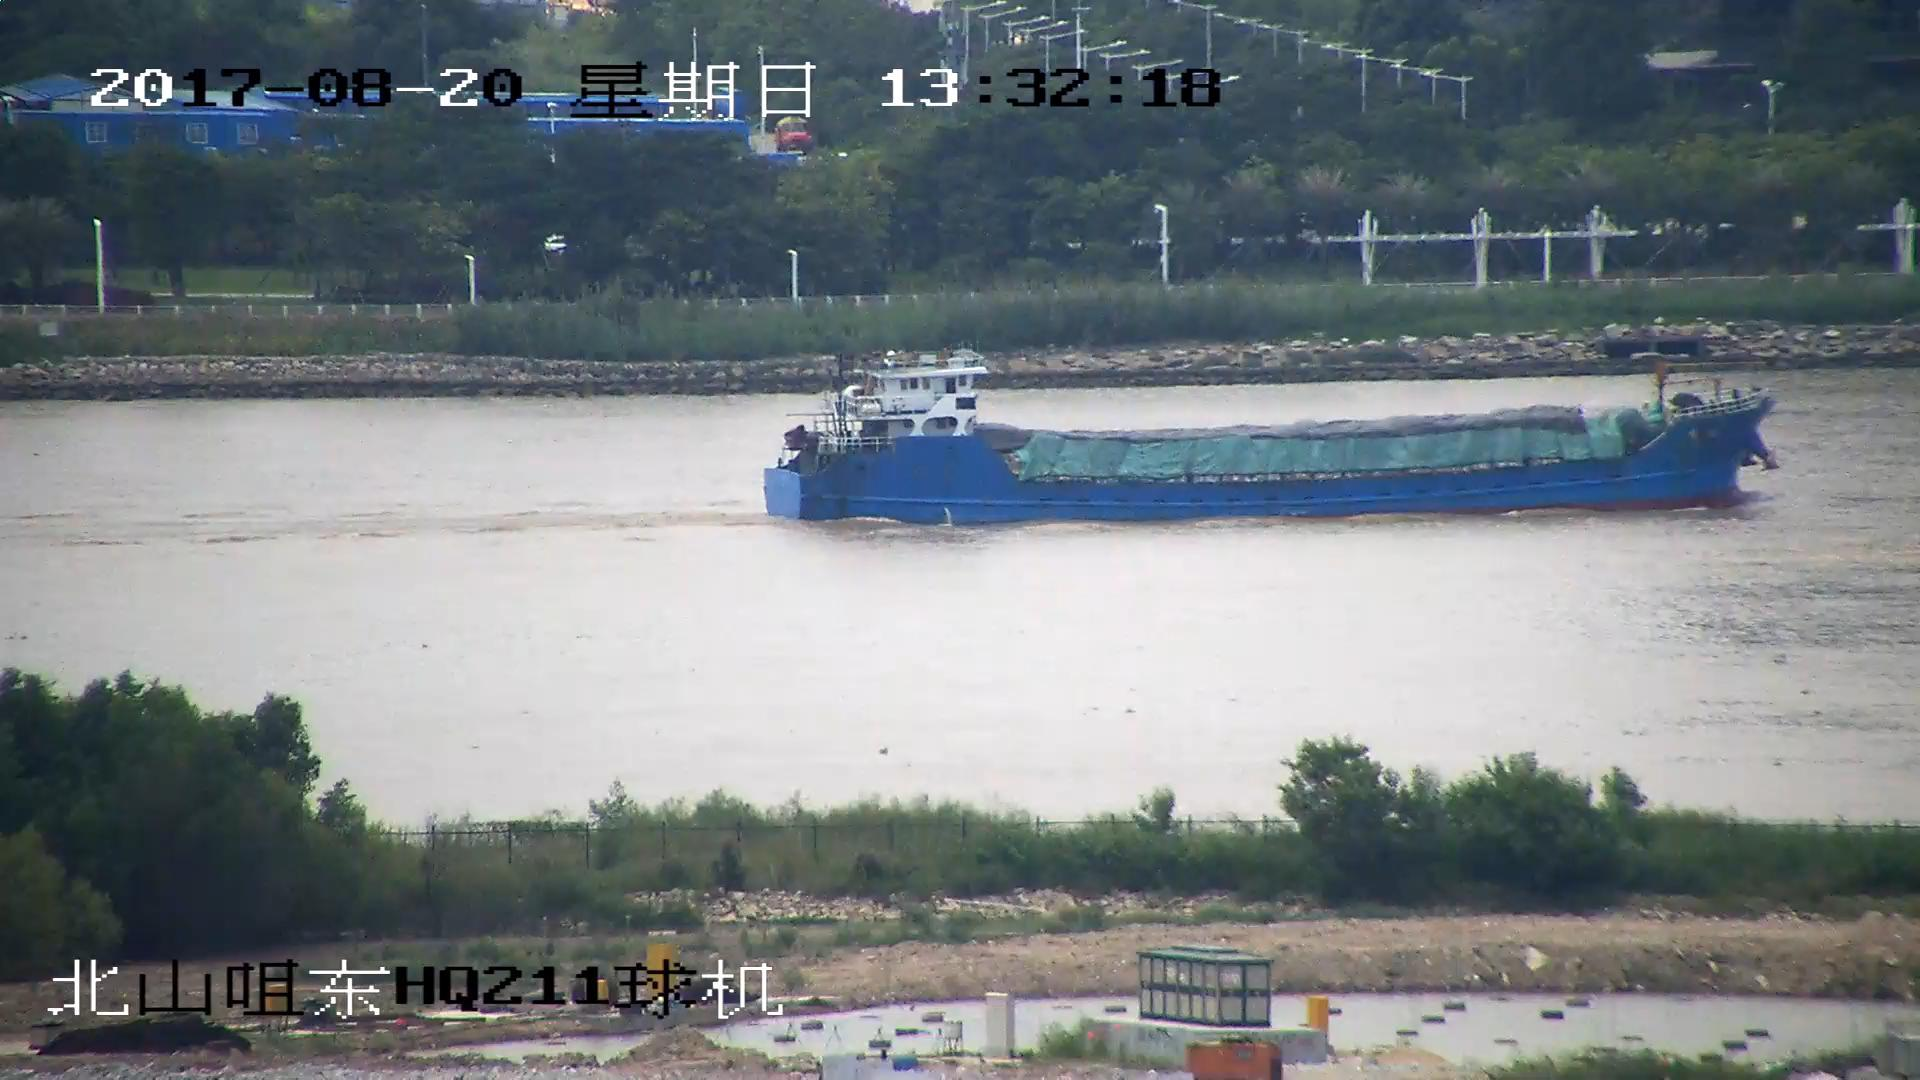Ship: (764, 359, 1776, 527)
